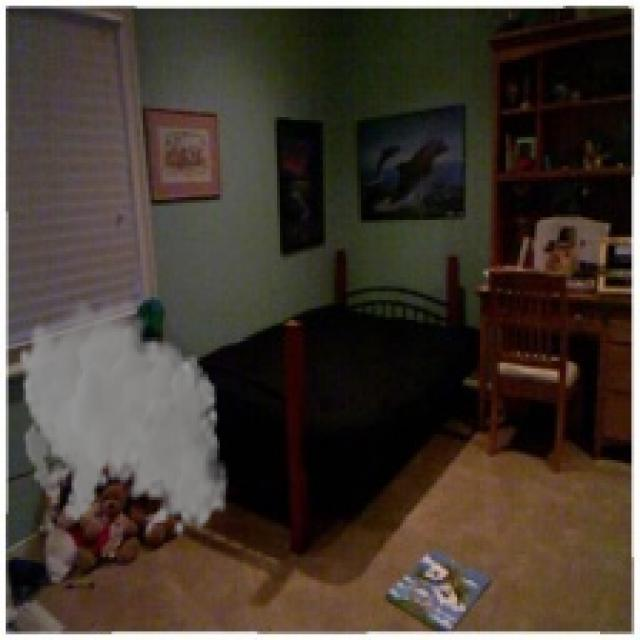smoke: (17, 289, 229, 537)
